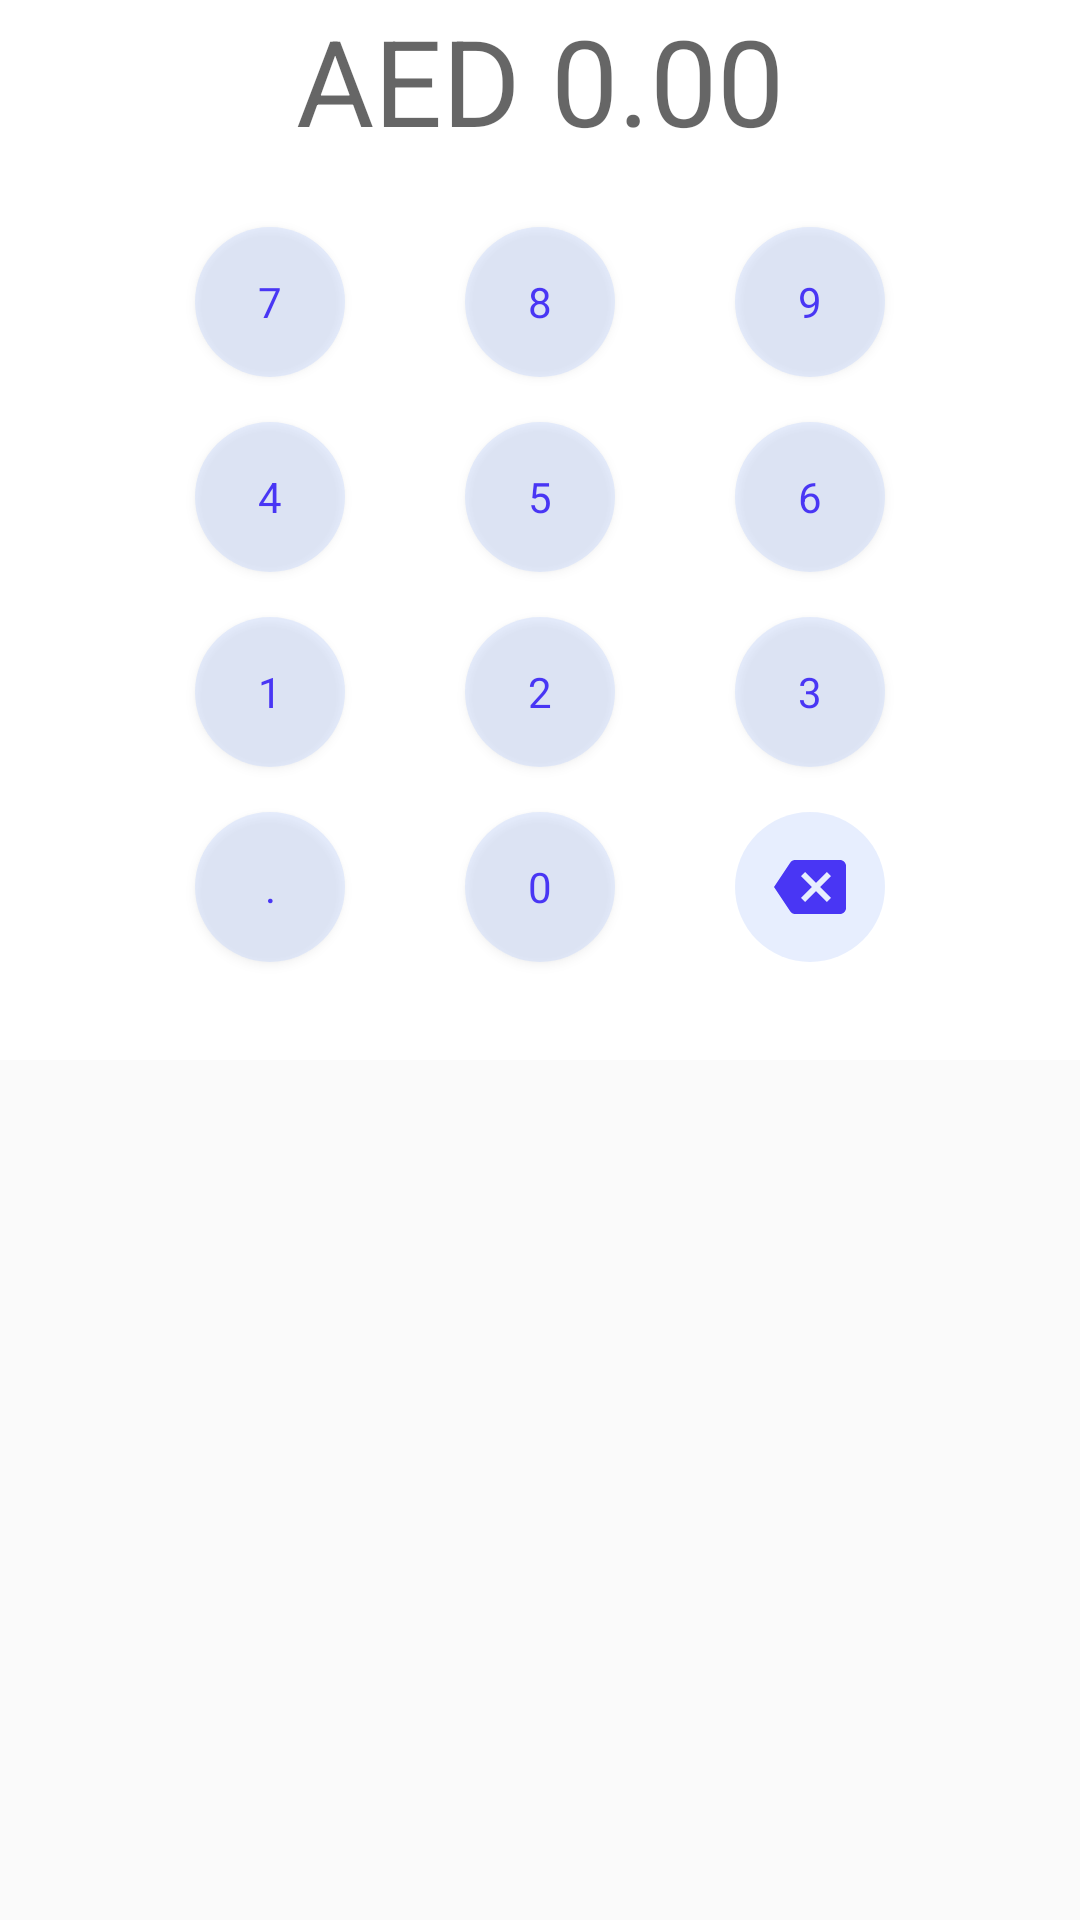

Icons on this 1080×1920 Android screen, each with the point to tap as (x,y):
clear: (810,887)
